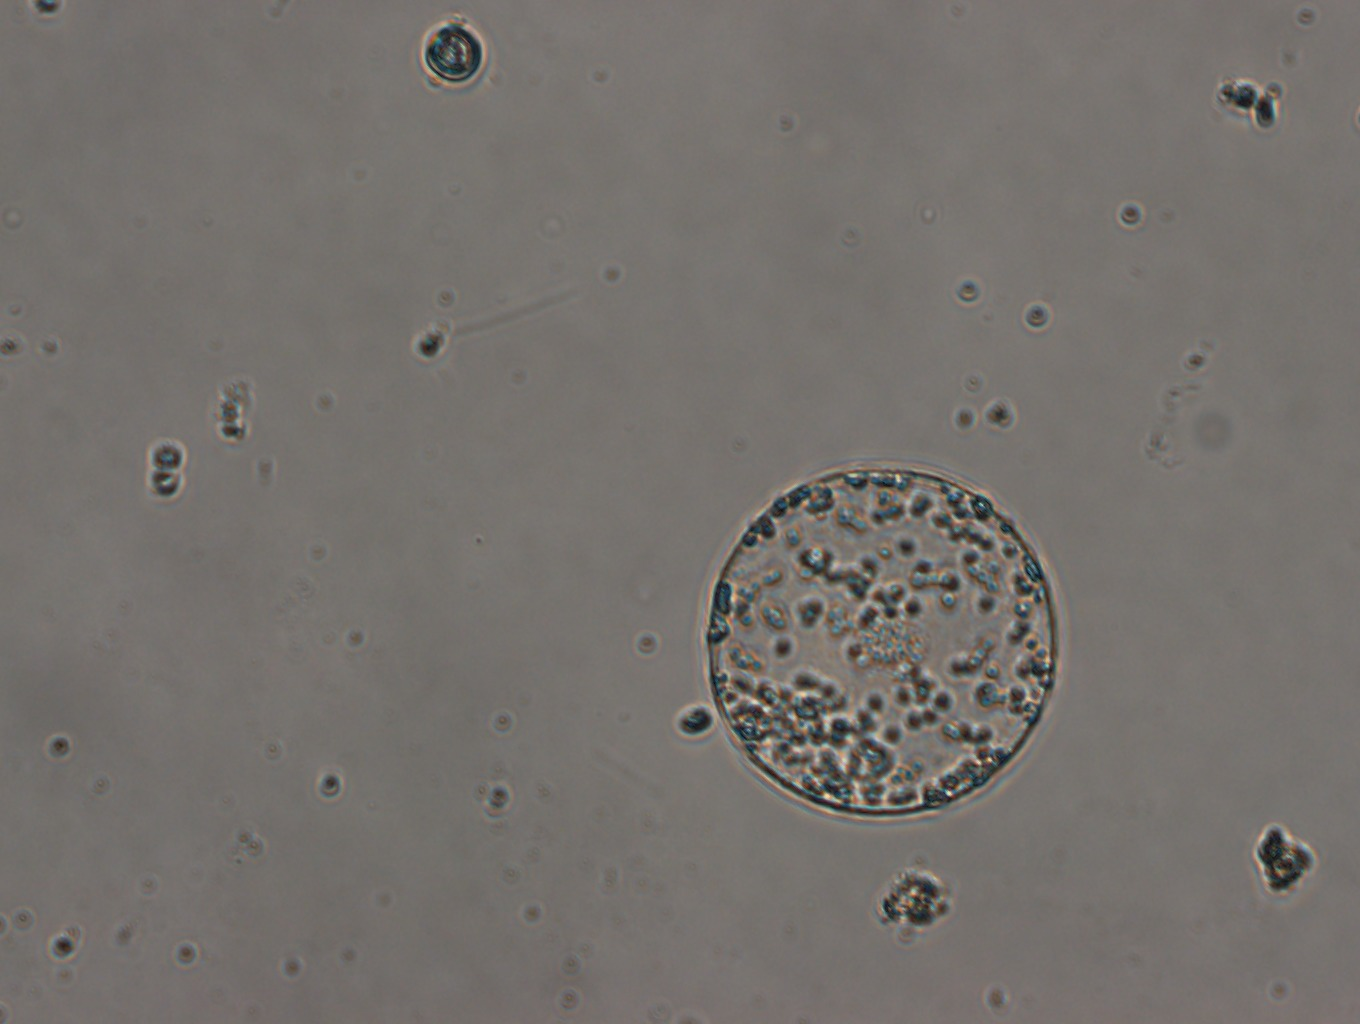coscinodiscus: (705, 466, 1058, 817)
